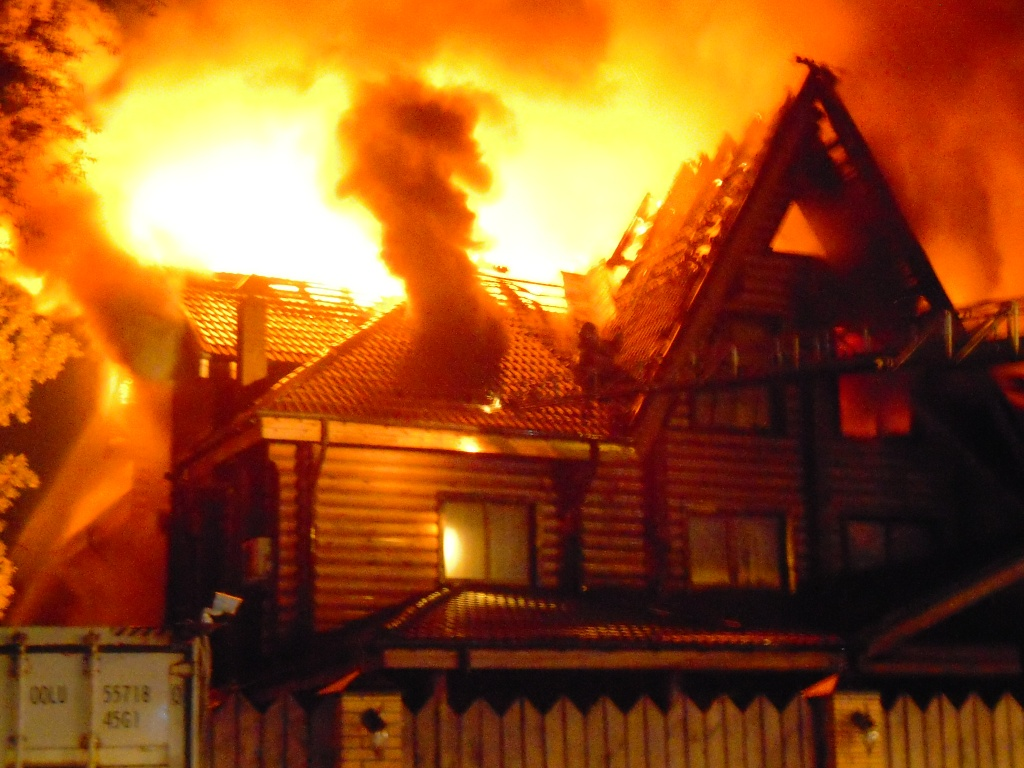fire: (8, 5, 972, 320)
